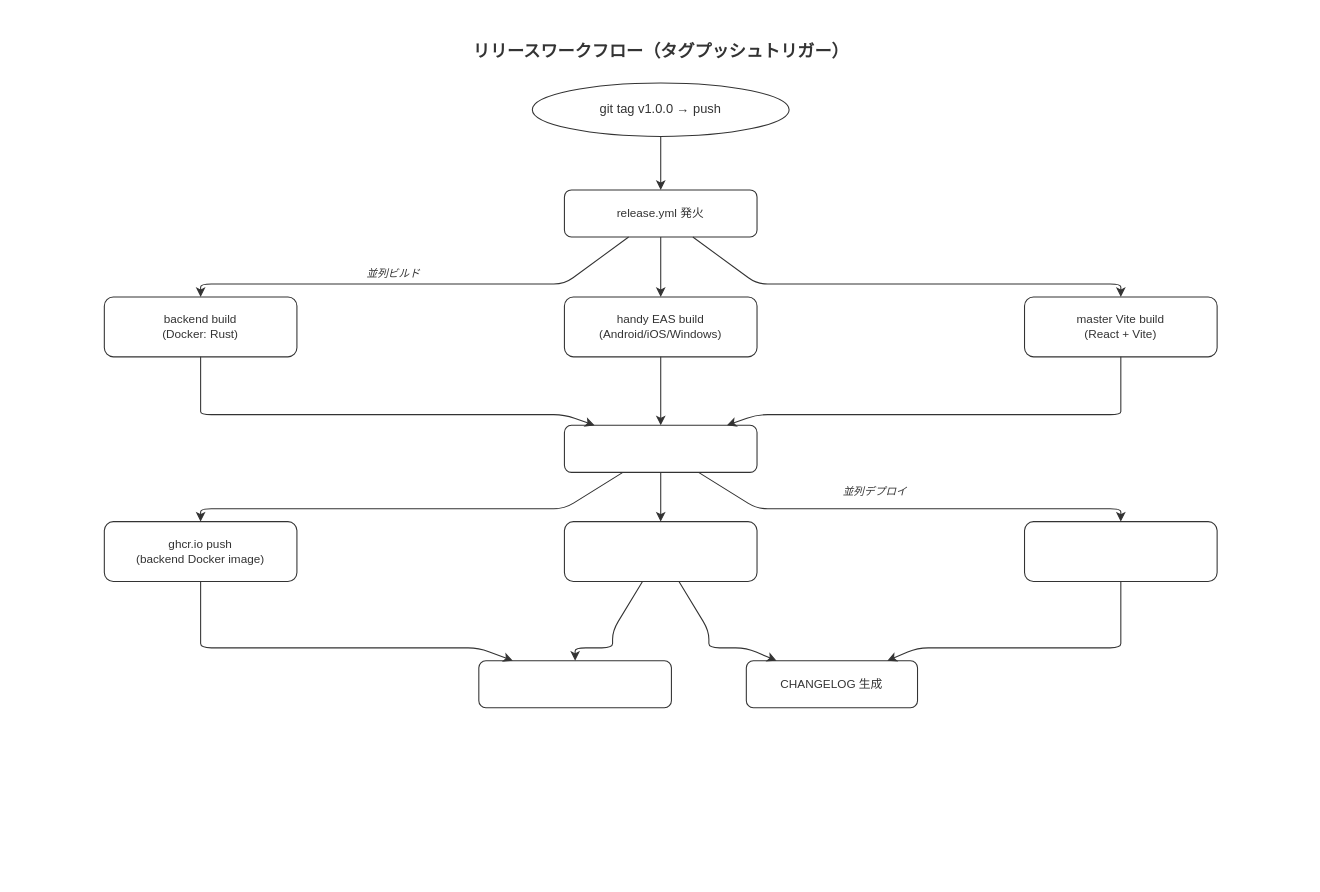
Image size: 1320x892. Some labels were removed from this diagram. The shapes that lost their labels are listed below. From the top down, each one's centre as x and y in pixels, then its label:
At (660,448): "全ビルド完了待ち".
At (660,551): "eas submit (ストア提出)".
At (1120,551): "IIS deploy (master SPA)".
At (574,684): "GitHub Release 作成".
